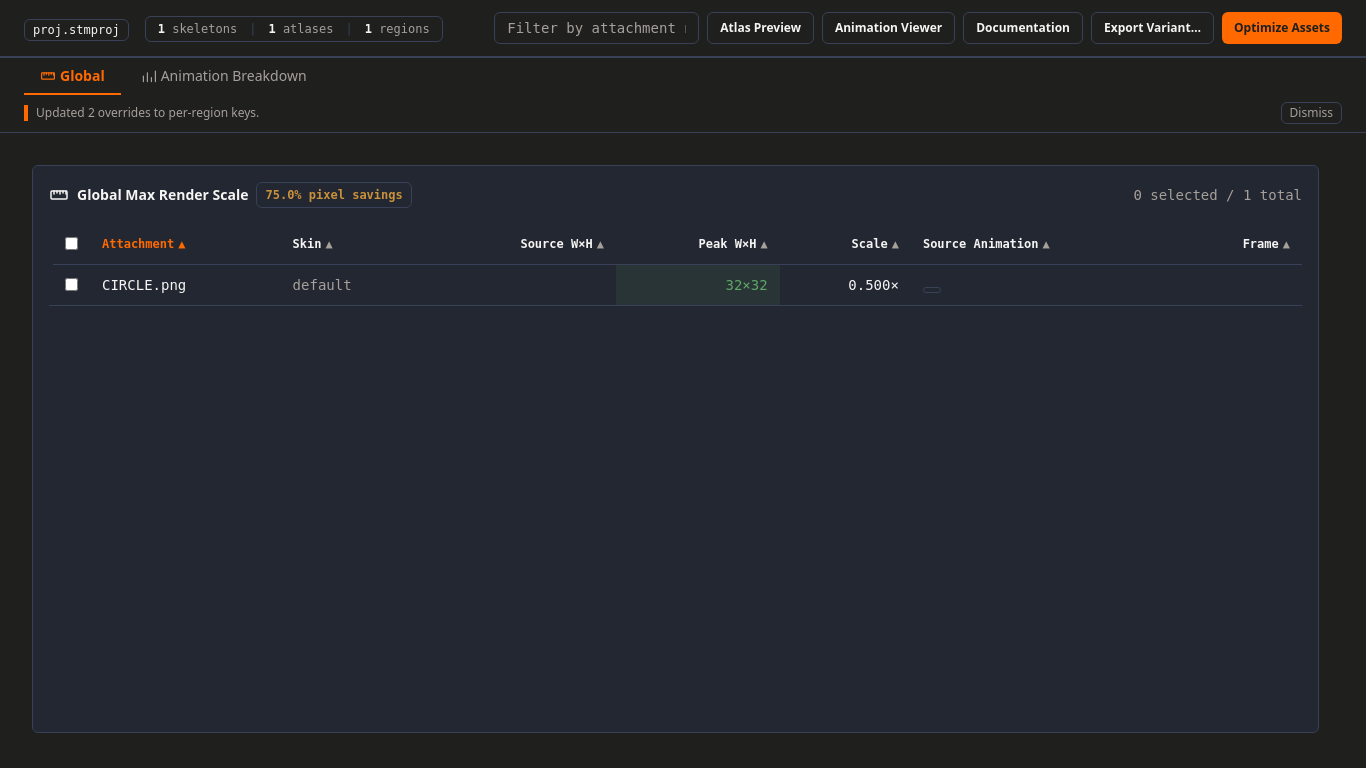
Scenario: Phase 29 D-06 — override migration banner (sibling to staleOverrideNotice) › clicking Dismiss removes the migration banner
Expected: the message "Updated 2 overrides to per-region keys. Dismiss" is shown, [0,94,1365,133]
Click the button "Dismiss" at (1311, 113), box [1281,102,1342,124]
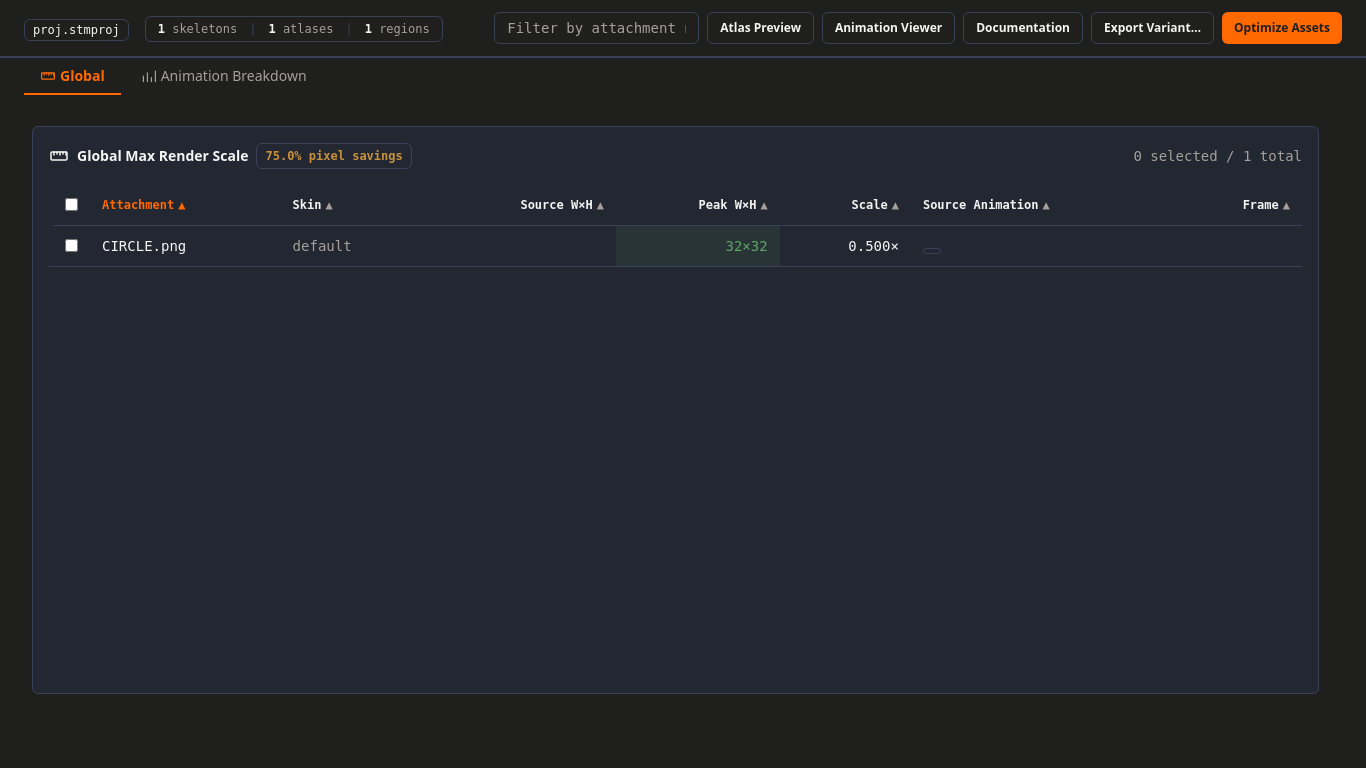
Result: the text "Updated 2 overrides to per-region keys" is gone
